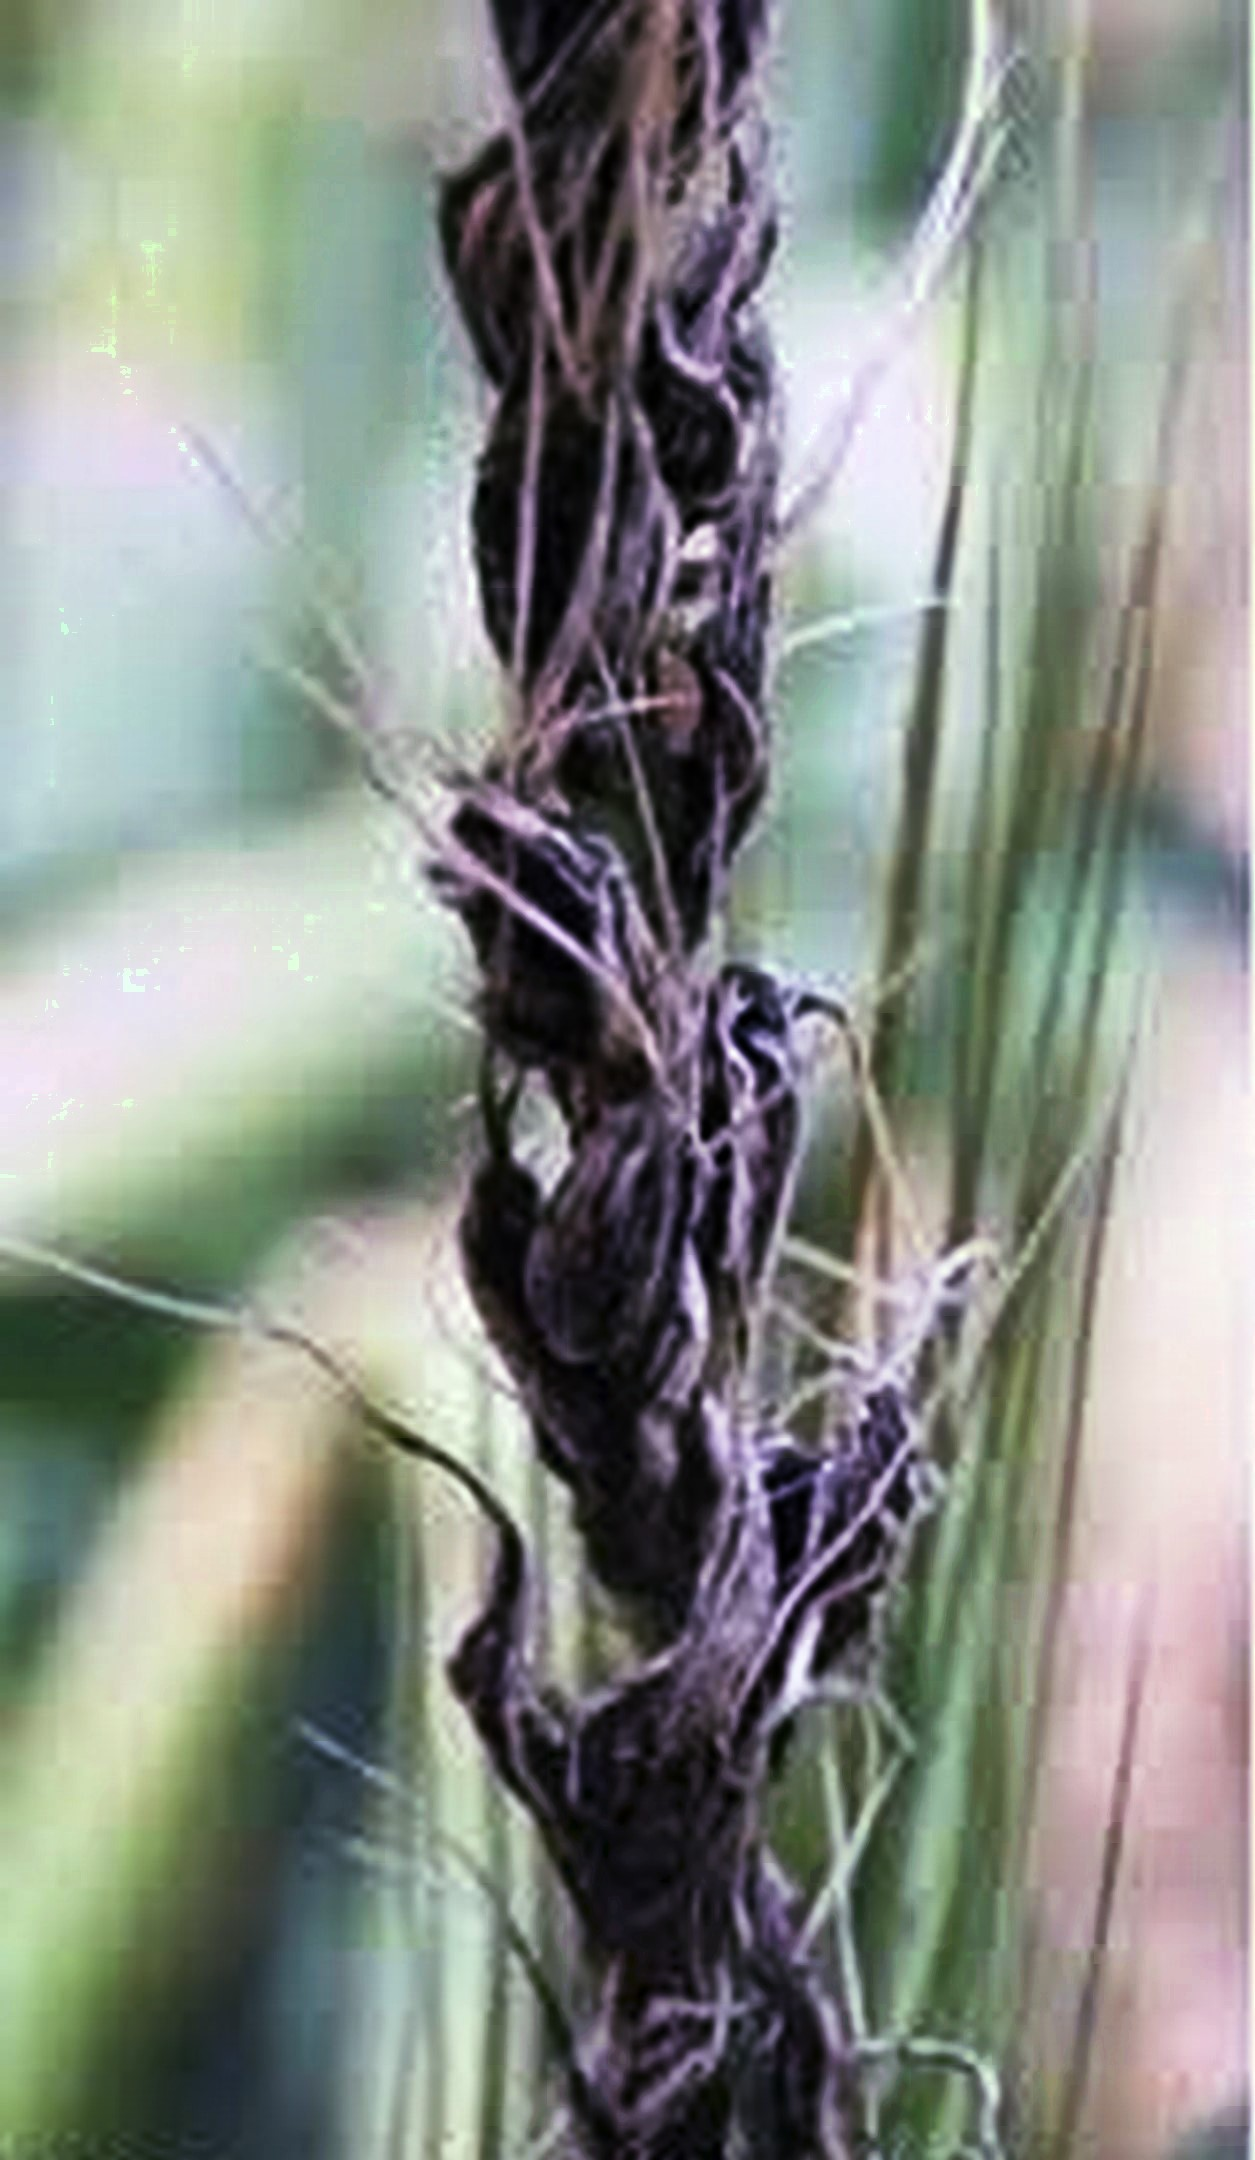Wheat Loose Smut: (344, 37, 926, 2082)
